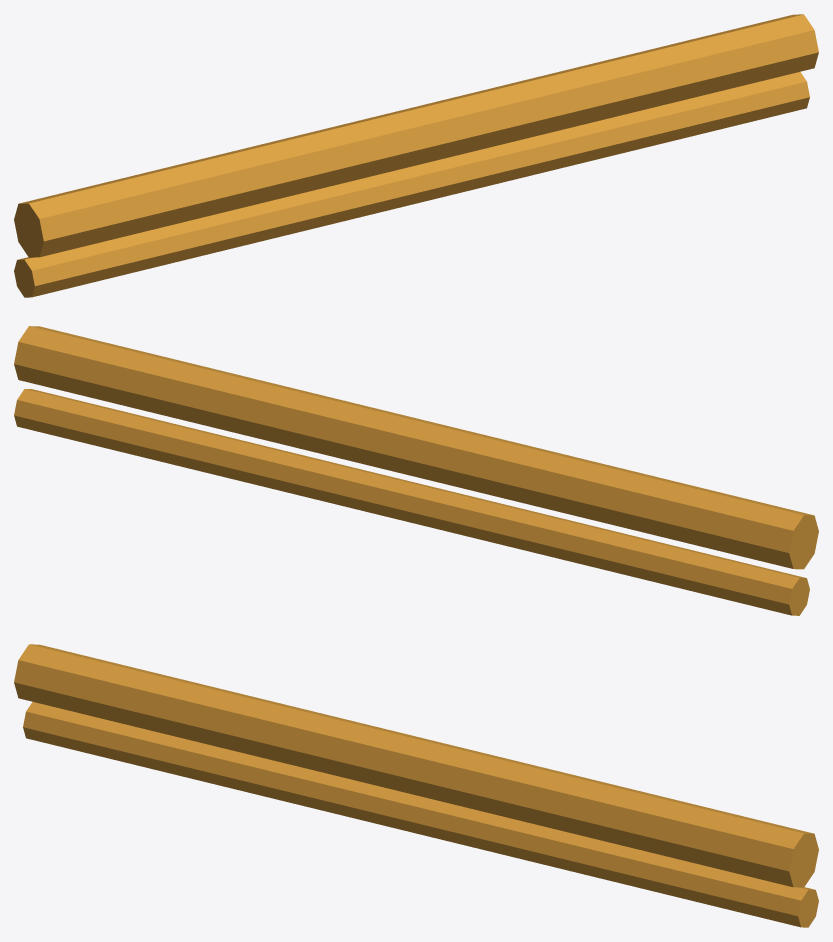
Rendered from scifi_pipes_horizontal.fbx.
3 renders of one model, top to bottom at view 1: azimuth 30°, elevation 25°; view 2: azimuth 150°, elevation 25°; view 3: azimuth 330°, elevation 25°, orthographic.
Visible parts, largest first — view 1: Cube.031; view 2: Cube.031; view 3: Cube.031.
Part boxes in pixels (box(x1,y1,x2,y2)): Cube.031: box(14, 14, 818, 297); Cube.031: box(14, 326, 818, 615); Cube.031: box(14, 644, 818, 927).
Size of the model in its own units: 3 by 0.36 by 0.2.
